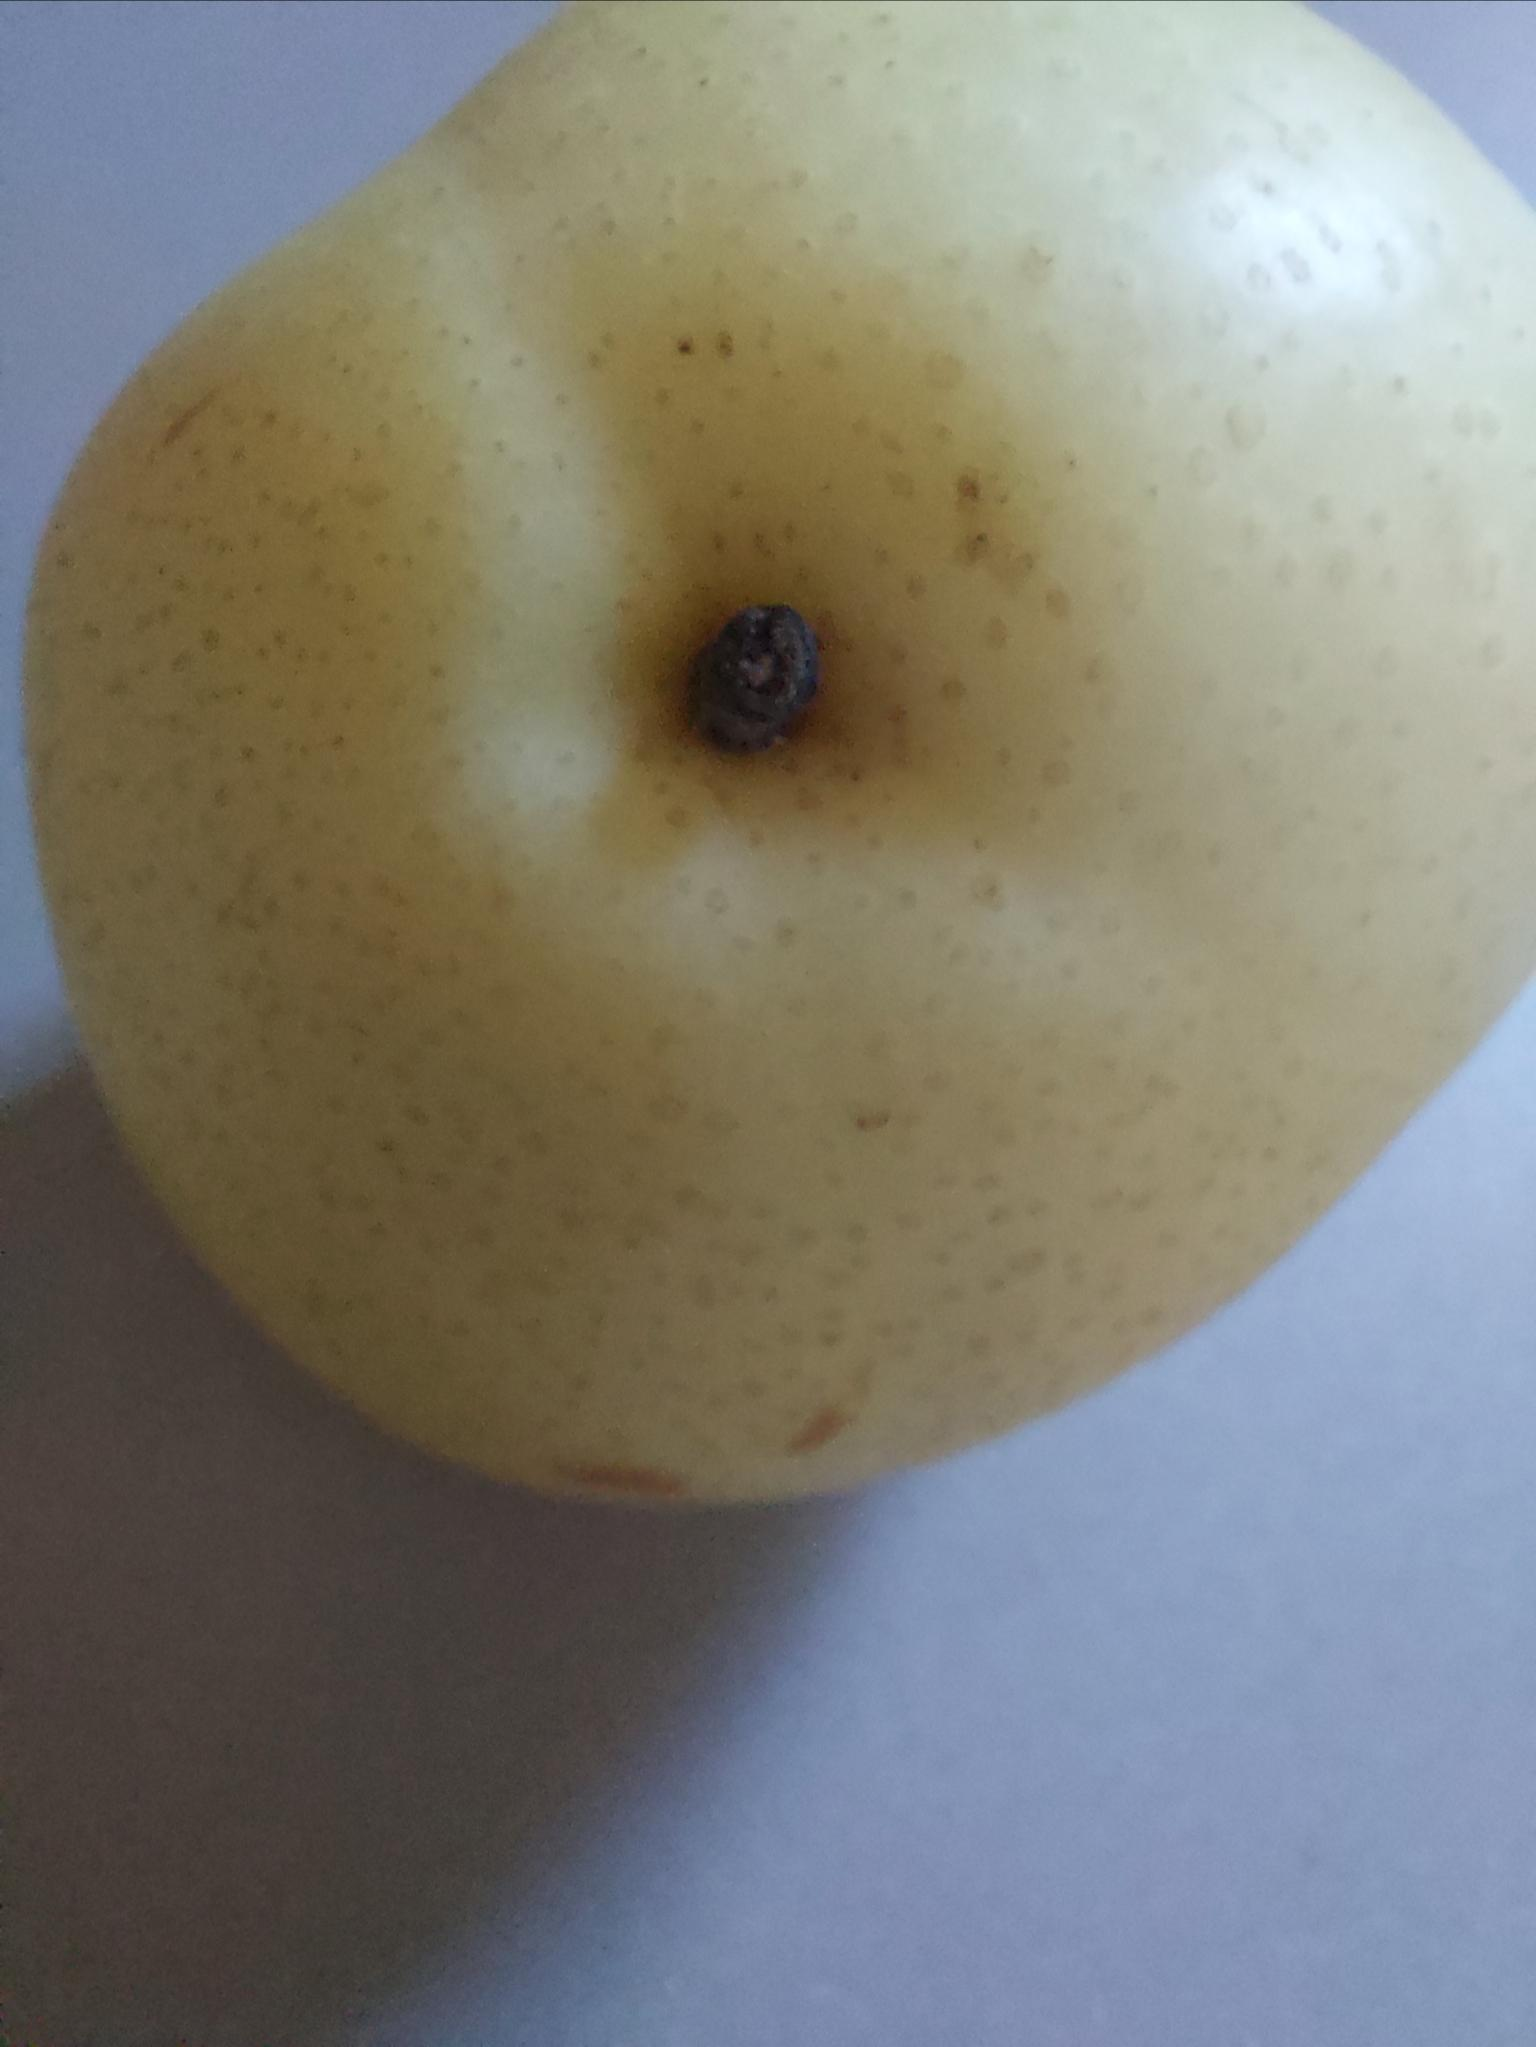Good Pear: (24, 0, 1536, 1531)
